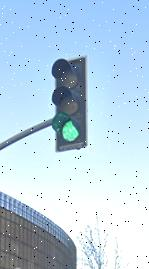greenlight: (53, 59, 85, 149)
